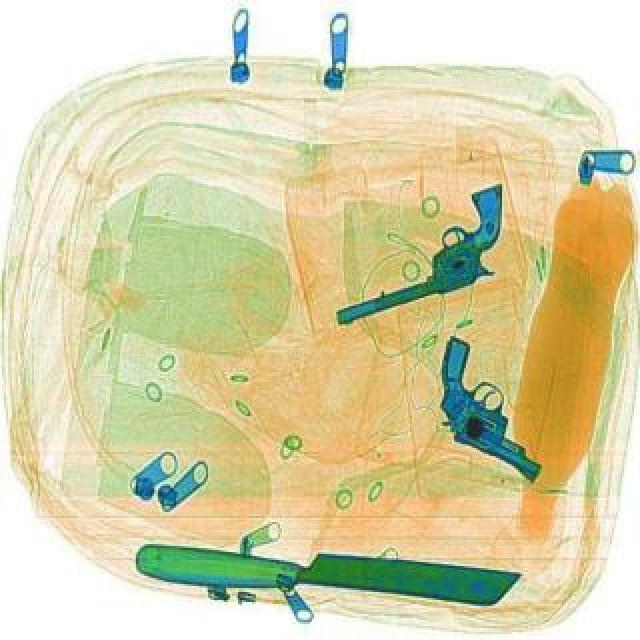gun: (308, 180, 536, 328), (398, 330, 584, 482)
knife: (132, 532, 522, 606)
